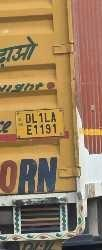License plate: (14, 108, 65, 140)
